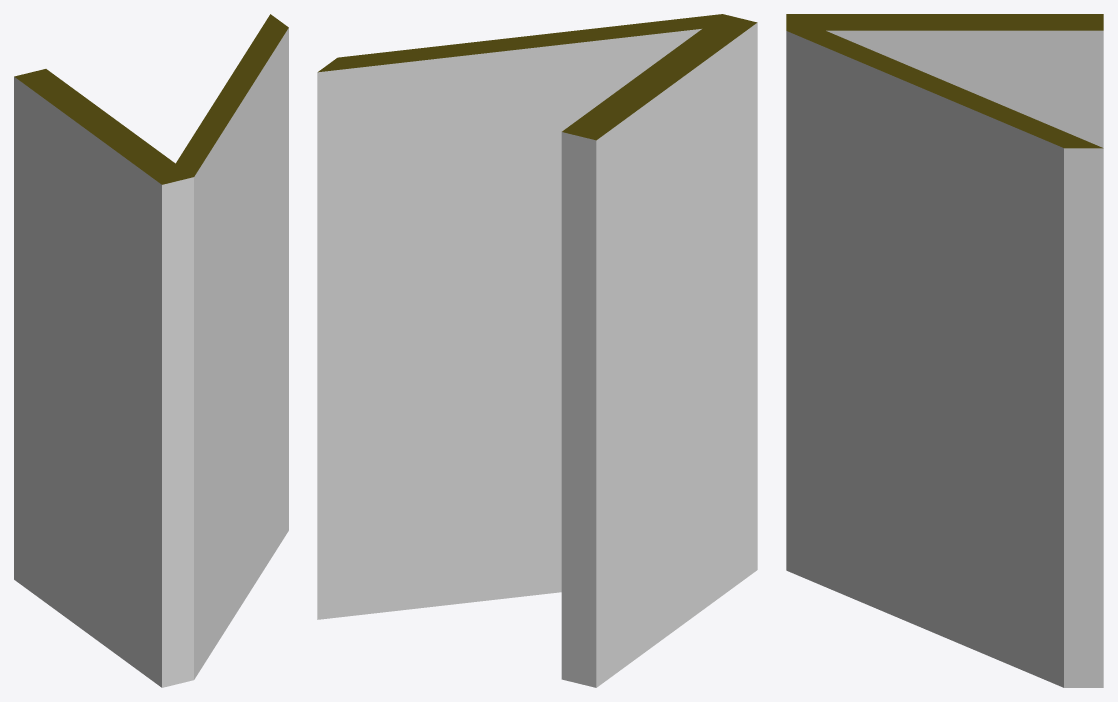
3 views of the same model, side by side, from view 1: azimuth 30°, elevation 25°; view 2: azimuth 150°, elevation 25°; view 3: azimuth 270°, elevation 25° (orthographic). The views are drawn at different scales.
Bounding box in the file's own units: 128 × 240 × 128.
1 material, 1 textured.
